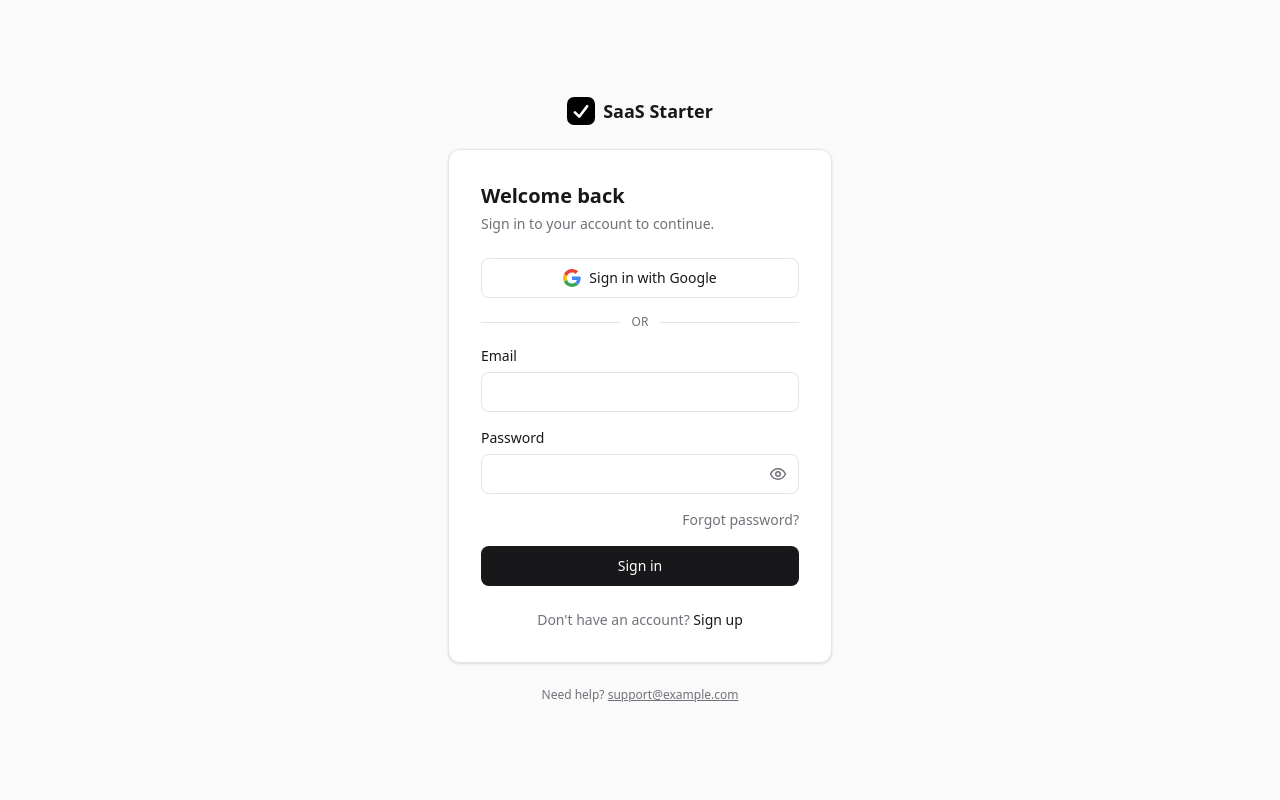
Test: Login page › logs in and redirects to the dashboard
Check: the heading "Welcome back" is shown, box [481,182,625,209]
Type "ada@example.com" into the field labelled "Email" at (640, 392), box [481,372,799,412]
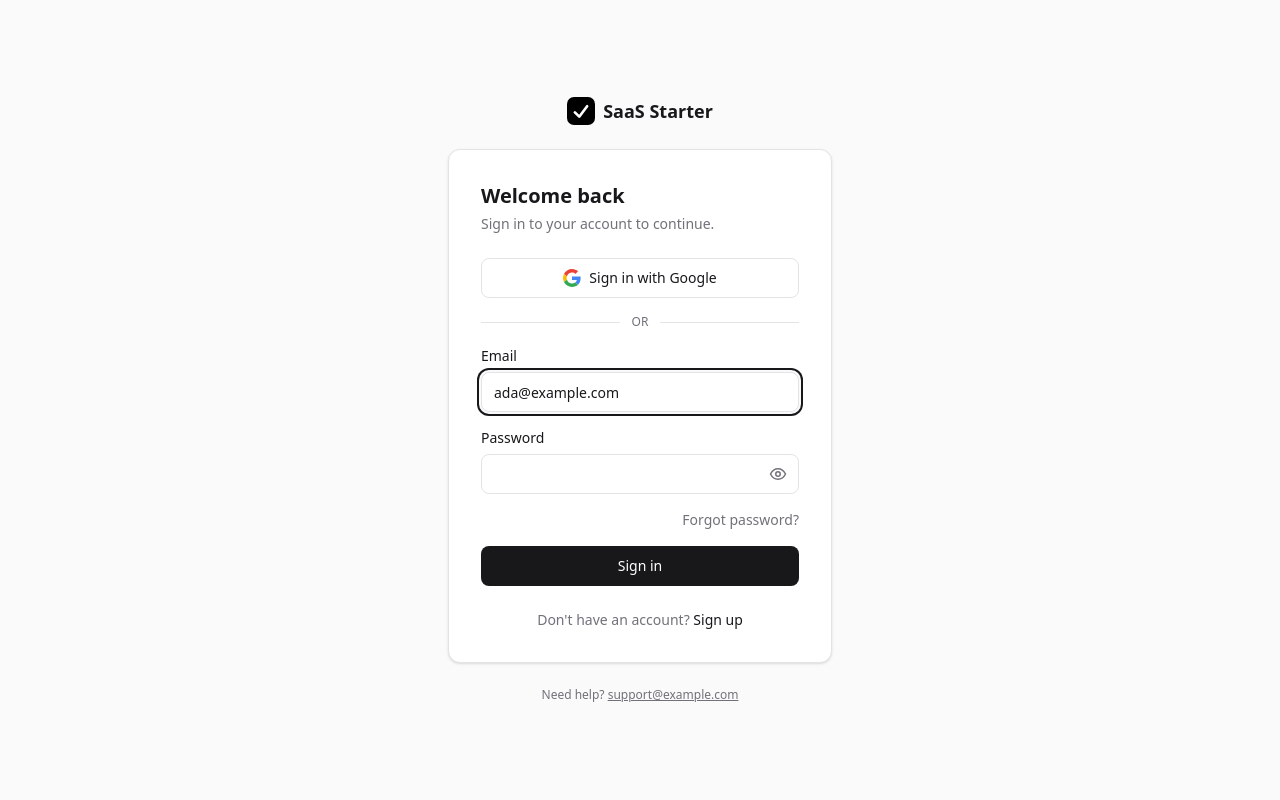
Type "correct-horse" into the password field labelled "Password" at (640, 474), box [481,454,799,494]
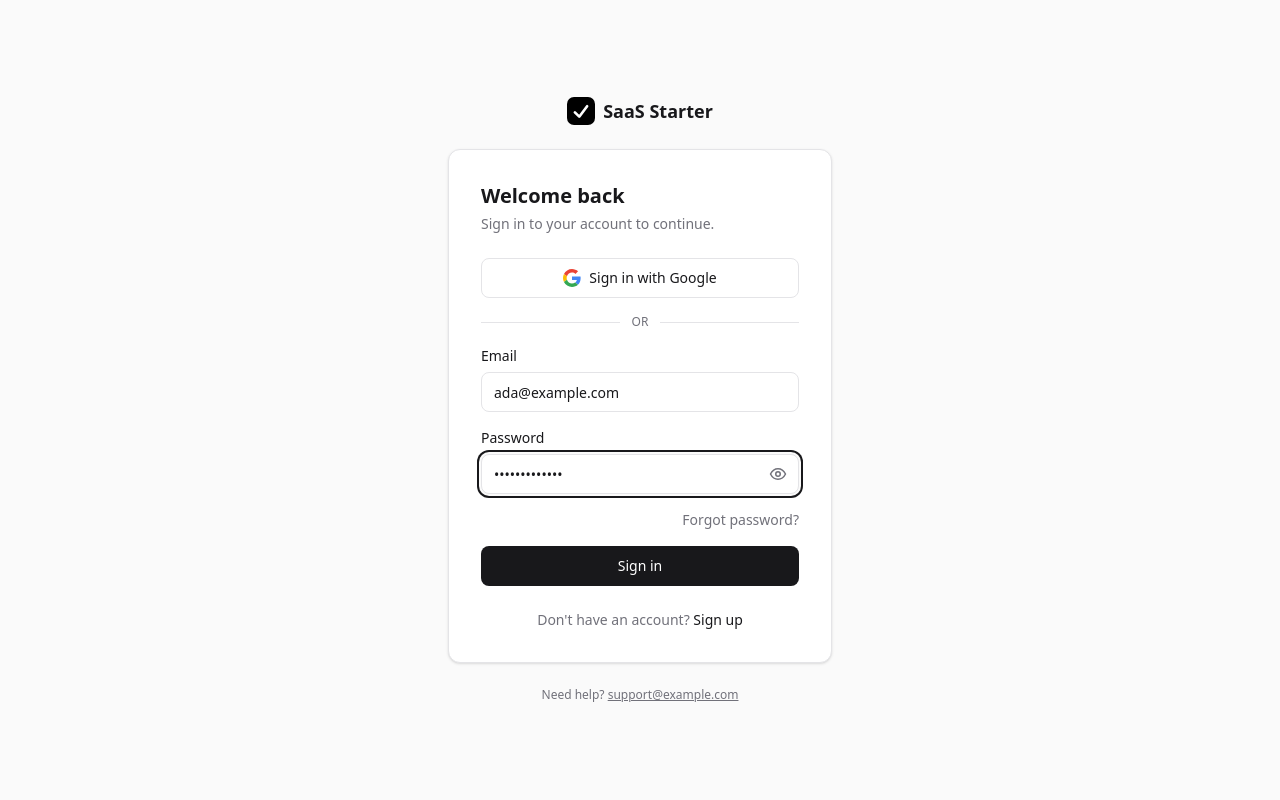
Click the button "Sign in" at (640, 566), box [481,546,799,586]
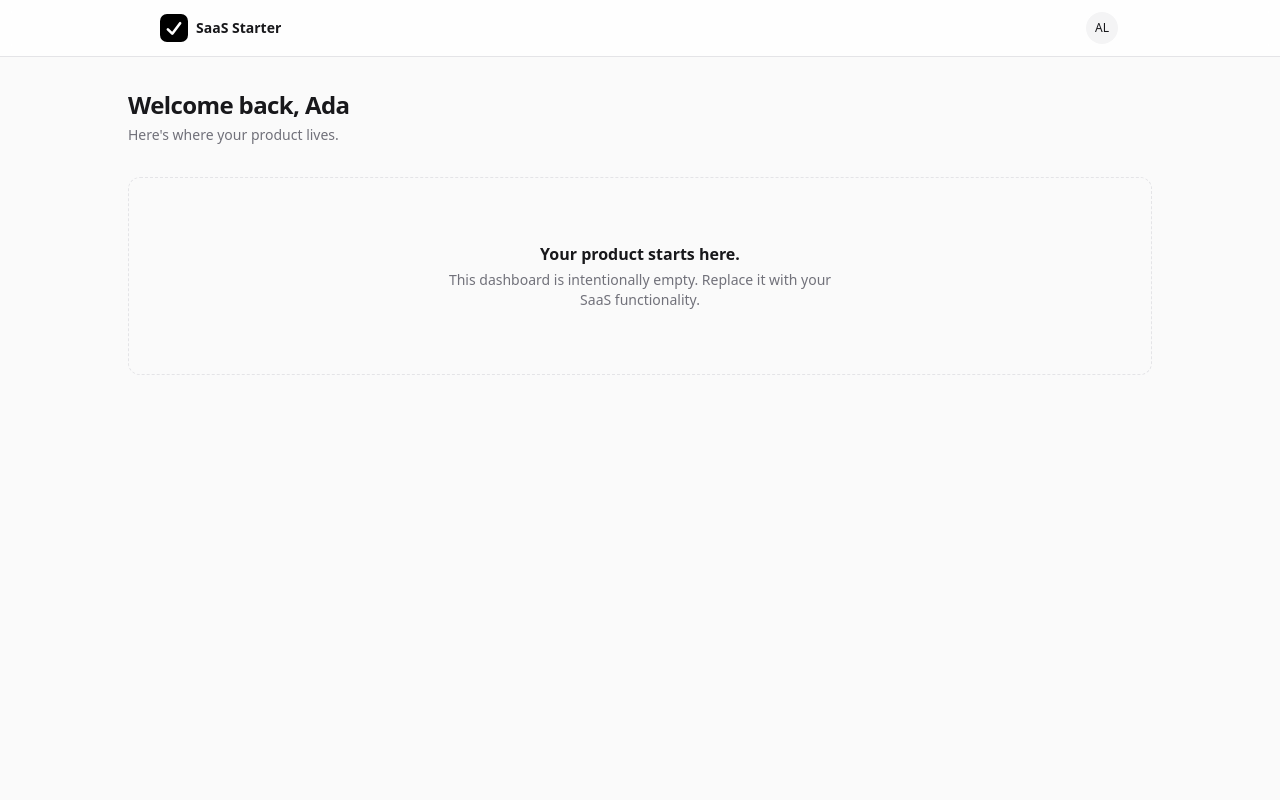
Check: the heading "Welcome back, Ada" is shown, box [128,88,350,121]
